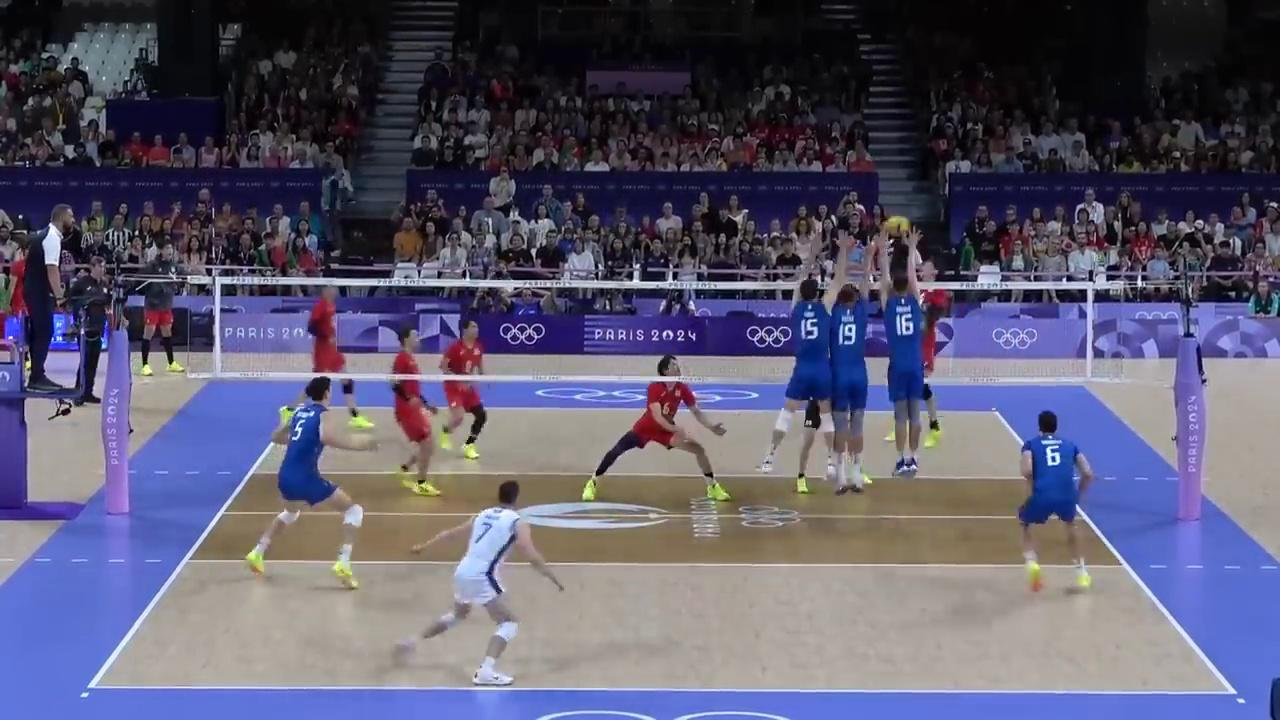ball: (881, 216, 908, 235)
